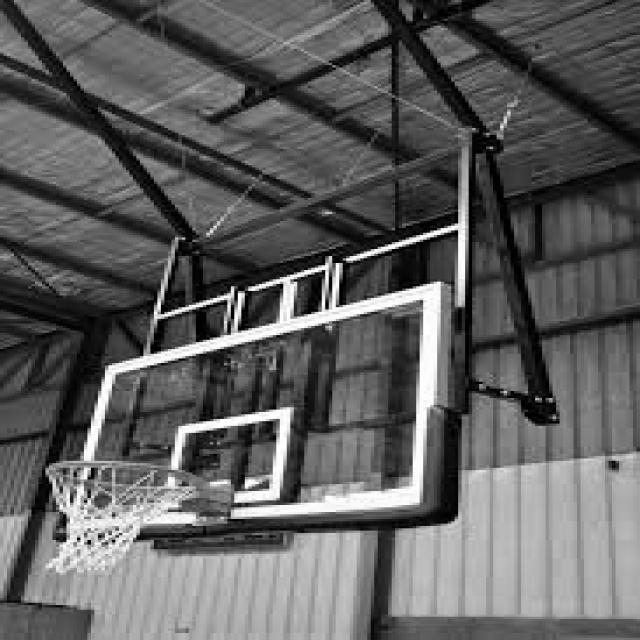backboard: (70, 277, 446, 530)
